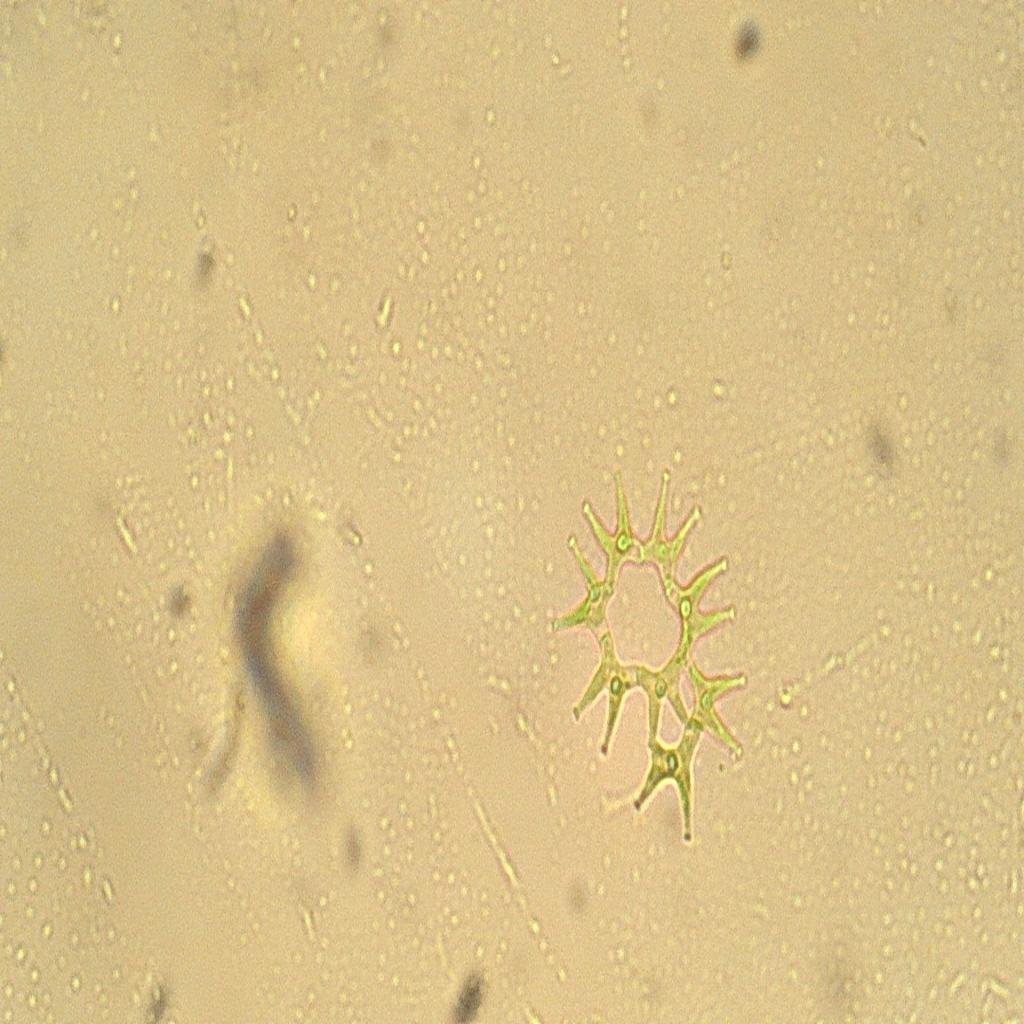Pediastrum_CFI: (548, 453, 767, 866)
